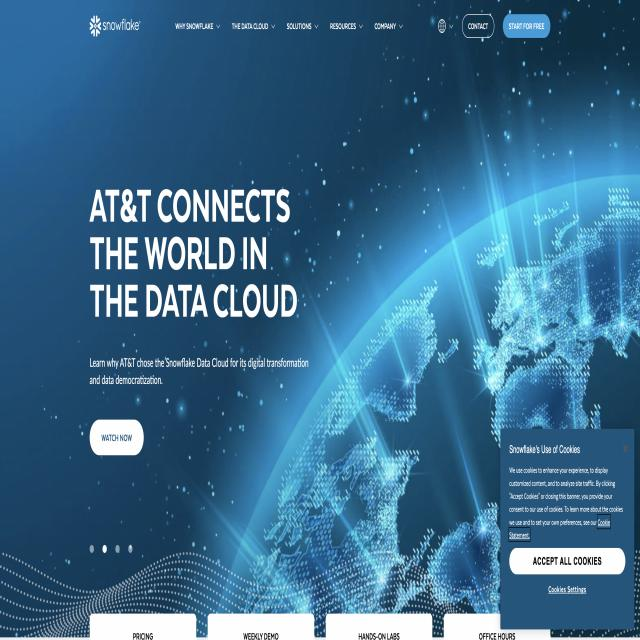Logo: (71, 1, 146, 43)
Navigation: (162, 7, 407, 43)
